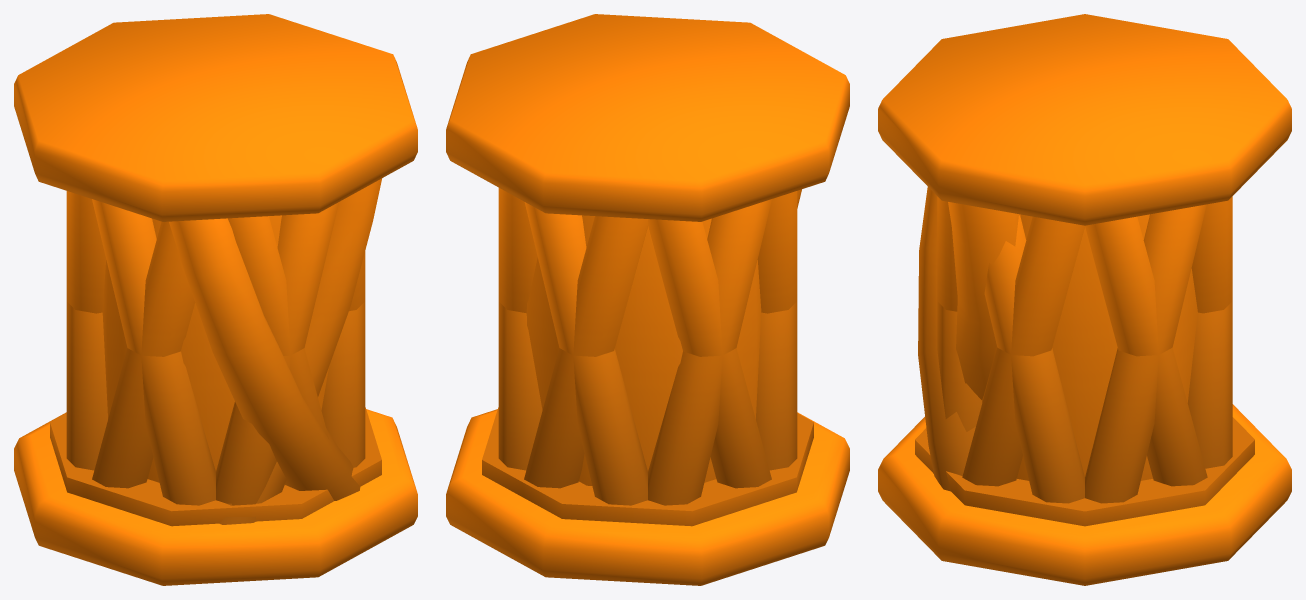
Rendered from bronze_grip_102.glb.
The picture shows the model from 3 angles, left to right: view 1: azimuth 30°, elevation 25°; view 2: azimuth 150°, elevation 25°; view 3: azimuth 270°, elevation 25°; orthographic projection.
Visible parts, largest first — view 1: bronze_grip_102; view 2: bronze_grip_102; view 3: bronze_grip_102.
Boxes of the visible parts, left/top/right/bottom form: bronze_grip_102: left=14, top=14, right=417, bottom=585; bronze_grip_102: left=446, top=14, right=849, bottom=585; bronze_grip_102: left=878, top=14, right=1291, bottom=585.
Bounding box in the file's own units: 2.89 × 3.17 × 2.89.
1 material, 1 textured.
